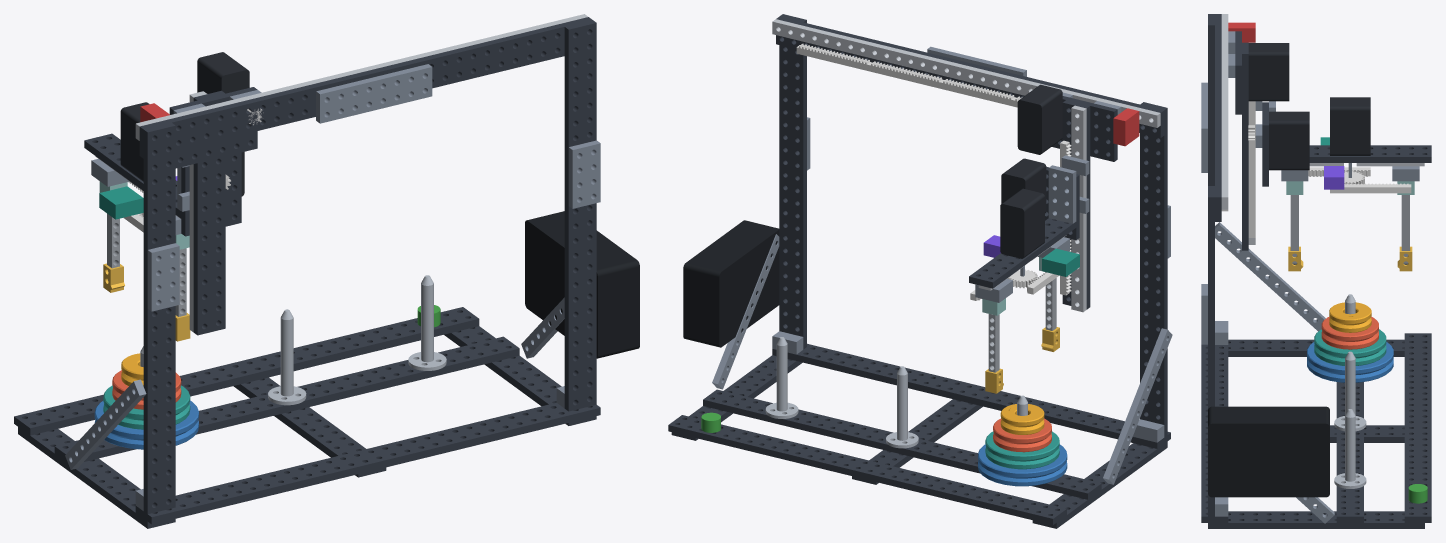
The model's file is VEX_Hanoi_Gantry.glb.
3 views of the same model, side by side, from view 1: azimuth 30°, elevation 25°; view 2: azimuth 150°, elevation 25°; view 3: azimuth 270°, elevation 25° (orthographic). The views are drawn at different scales.
Parts seen in each view (by area): view 1: brain_envelope, postR_2x16, postL_2x16, mast_2x16, bridgeL_2x16, bridgeR_2x16, rail0_L_2x16, rail0_R_2x16, rail2_R_2x16, rail1_R_2x16, postL_2x10, postR_2x10 (+20 smaller); view 2: brain_envelope, postR_2x16, postL_2x16, rail2_L_2x16, rail2_R_2x16, rail1_R_2x16, rail0_R_2x16, postL_2x10, rail0_L_2x16, postR_2x10, x_motor, grip_motor (+33 smaller); view 3: brain_envelope, cross2_2x16, rail2_L_2x16, x_motor, z_motor, rail2_R_2x16, grip_motor, braceL_1x12, rail1_R_2x16, arm_2x12, cross0_2x16, disc_4 (+38 smaller).
Boxes of the visible parts, x1=… form: brain_envelope: x1=525, y1=211, x2=639, y2=358; postR_2x16: x1=564, y1=174, x2=596, y2=411; postL_2x16: x1=143, y1=276, x2=175, y2=513; mast_2x16: x1=193, y1=90, x2=225, y2=335; bridgeL_2x16: x1=139, y1=72, x2=368, y2=158; bridgeR_2x16: x1=364, y1=17, x2=592, y2=88; rail0_L_2x16: x1=135, y1=450, x2=376, y2=524; rail0_R_2x16: x1=360, y1=402, x2=600, y2=469; rail2_R_2x16: x1=239, y1=307, x2=479, y2=380; rail1_R_2x16: x1=295, y1=336, x2=519, y2=410; postL_2x10: x1=143, y1=122, x2=175, y2=278; postR_2x10: x1=564, y1=20, x2=596, y2=176; brain_envelope: x1=683, y1=220, x2=779, y2=347; postR_2x16: x1=779, y1=142, x2=806, y2=349; postL_2x16: x1=1140, y1=230, x2=1167, y2=437; rail2_L_2x16: x1=860, y1=462, x2=1066, y2=524; rail2_R_2x16: x1=668, y1=415, x2=874, y2=478; rail1_R_2x16: x1=703, y1=389, x2=895, y2=452; rail0_R_2x16: x1=772, y1=343, x2=978, y2=401; postL_2x10: x1=1140, y1=102, x2=1167, y2=235; rail0_L_2x16: x1=965, y1=385, x2=1170, y2=448; postR_2x10: x1=779, y1=14, x2=806, y2=148; x_motor: x1=1017, y1=84, x2=1062, y2=154; grip_motor: x1=1000, y1=188, x2=1044, y2=258; brain_envelope: x1=1208, y1=406, x2=1329, y2=497; cross2_2x16: x1=1208, y1=511, x2=1424, y2=528; rail2_L_2x16: x1=1404, y1=333, x2=1431, y2=424; x_motor: x1=1248, y1=43, x2=1289, y2=101; z_motor: x1=1269, y1=111, x2=1309, y2=170; rail2_R_2x16: x1=1404, y1=425, x2=1431, y2=522; grip_motor: x1=1330, y1=97, x2=1370, y2=155; braceL_1x12: x1=1215, y1=222, x2=1325, y2=331; rail1_R_2x16: x1=1336, y1=429, x2=1363, y2=522; arm_2x12: x1=1309, y1=145, x2=1431, y2=162; cross0_2x16: x1=1228, y1=339, x2=1404, y2=356; disc_4: x1=1307, y1=342, x2=1393, y2=382.
Bounding box in the file's own units: 452 × 356 × 216.
